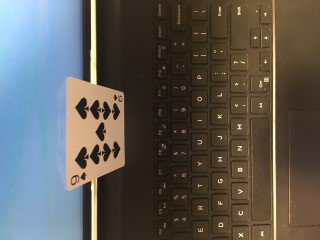NineOfSpades: (65, 77, 125, 192)
